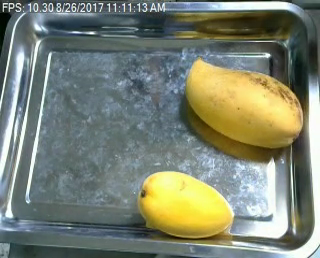Mango: (184, 53, 304, 156), (135, 169, 235, 238)
